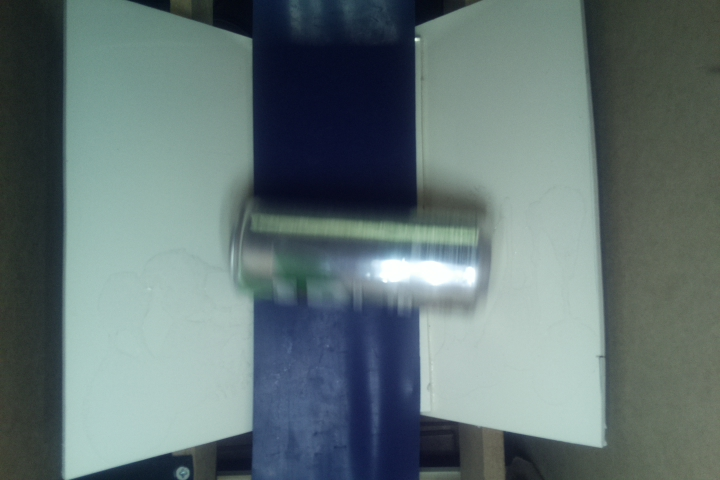can: (230, 190, 498, 320)
